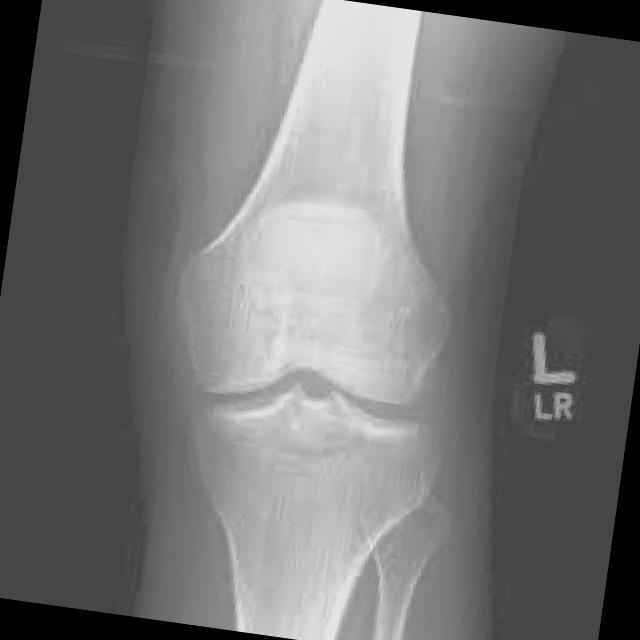Avlusion Fracture: (414, 424, 469, 544)
